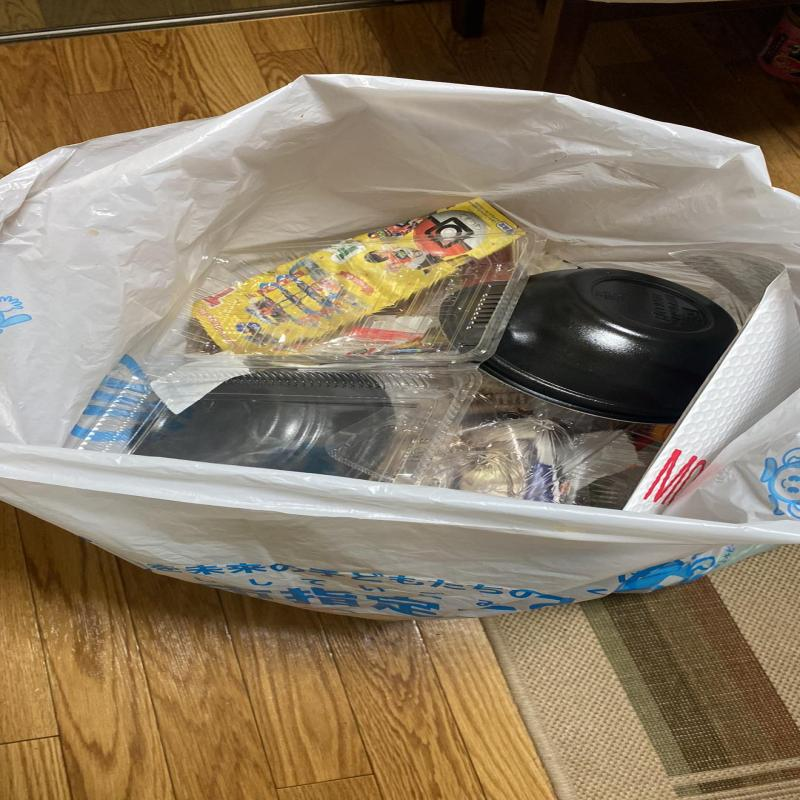paper: (187, 197, 527, 354)
plastic container: (62, 229, 549, 485), (327, 375, 673, 510), (478, 269, 739, 425), (438, 281, 507, 350)
